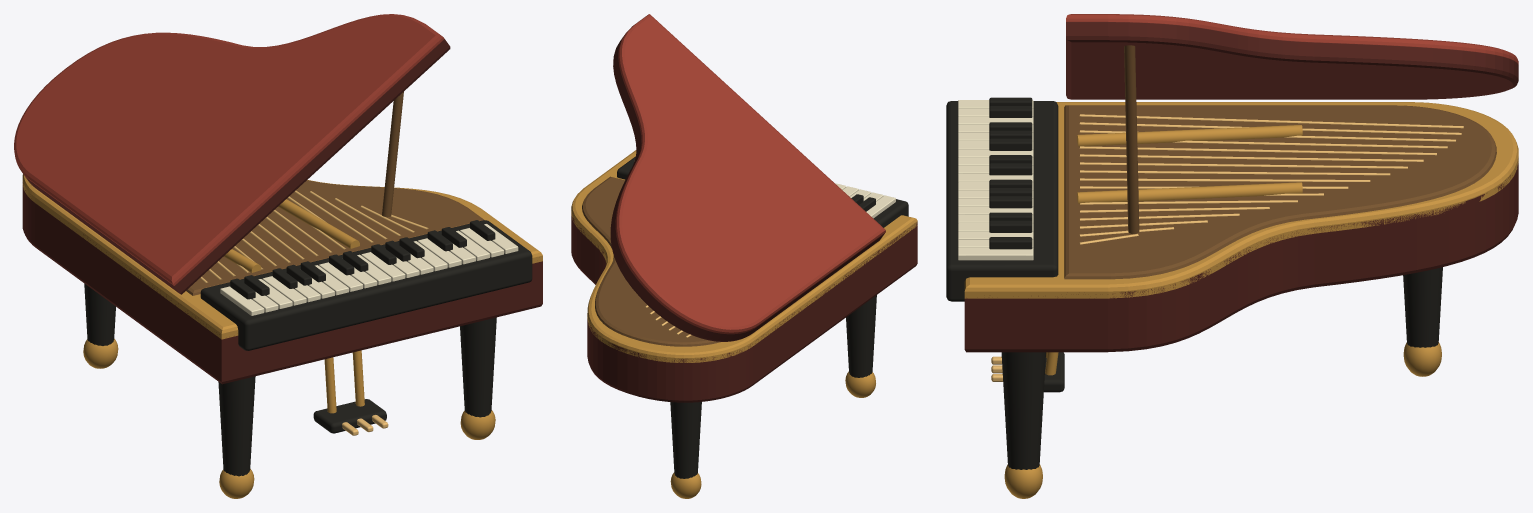
File: piano.glb
The picture shows the model from 3 angles, left to right: view 1: azimuth 30°, elevation 25°; view 2: azimuth 150°, elevation 25°; view 3: azimuth 270°, elevation 25°; orthographic projection. The views are drawn at different scales.
Visible parts, largest first — view 1: Baby grand; view 2: Baby grand; view 3: Baby grand.
Part boxes in pixels (x1,y1,x2,y2): Baby grand: (14, 14, 542, 498); Baby grand: (571, 14, 917, 498); Baby grand: (946, 14, 1518, 498).
Size of the model in its own units: 2.09 by 2.41 by 2.66.
